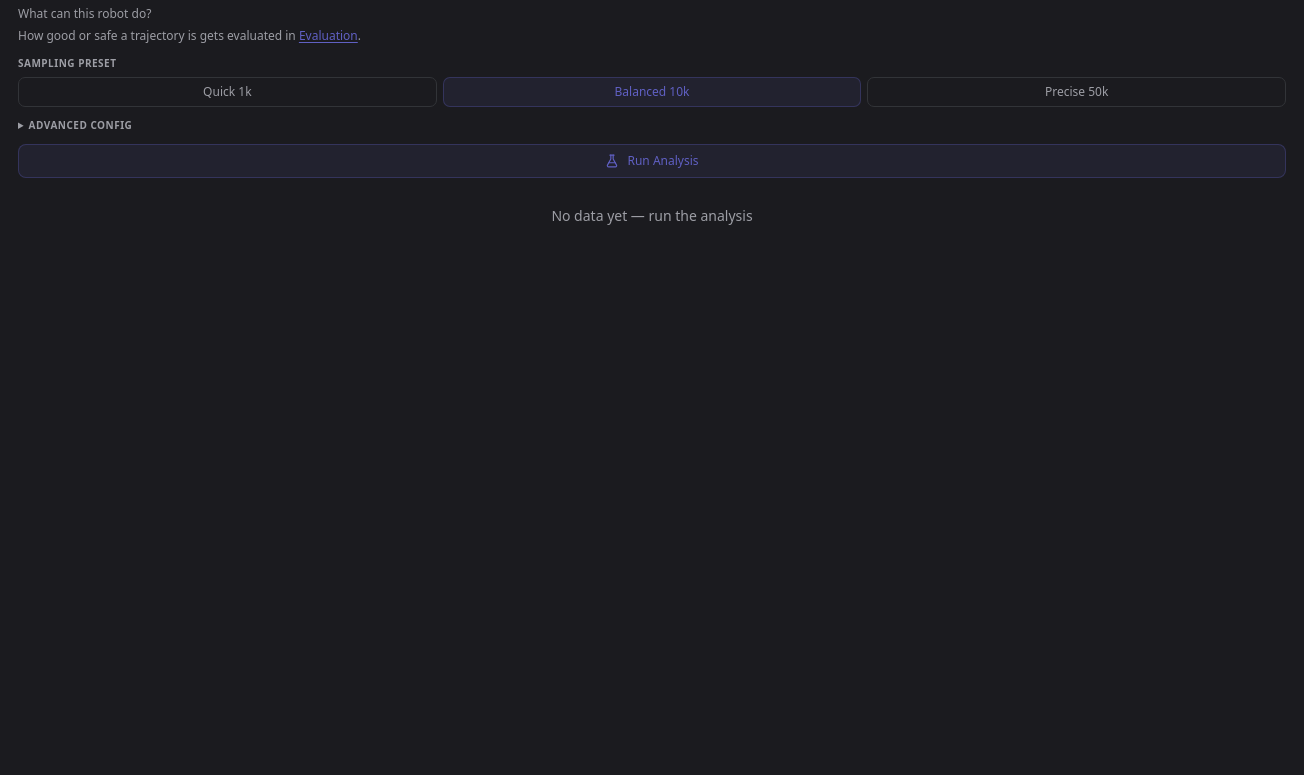
Scenario: WorkspaceAnalysis — explicit trigger runs 3 mutations (spec: Explicit trigger runs sampling) › renders the TABBED inline report — one metric panel per feature
The width and height of the screenshot is (1304, 775).
Click the button "Run Analysis". click: (652, 161)
box: [18,144,1286,178]
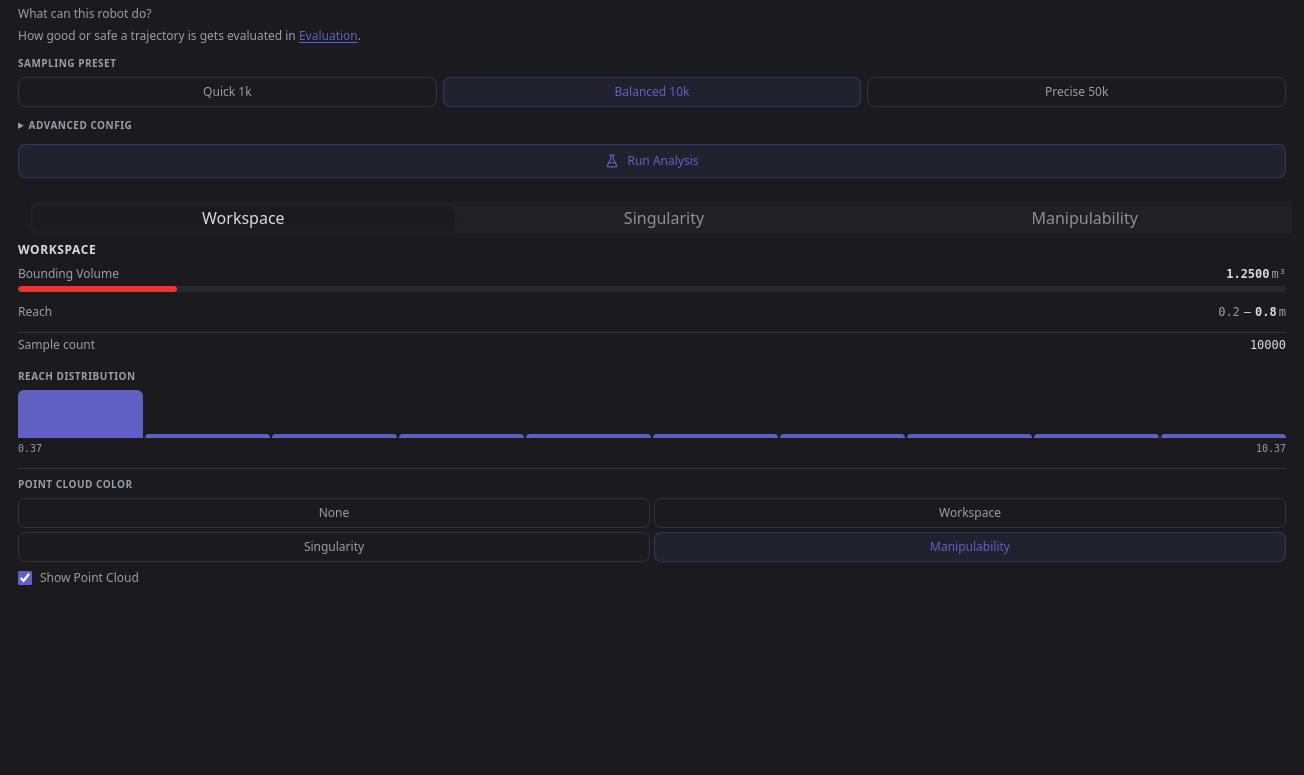
Result: the heading "Workspace" is shown at [18,242,96,258]
Result: the tab "Singularity" is shown
Result: the tab "Manipulability" is shown at [874,206,1292,231]
Click the tab "Singularity". click: (664, 218)
box: [454,206,874,231]
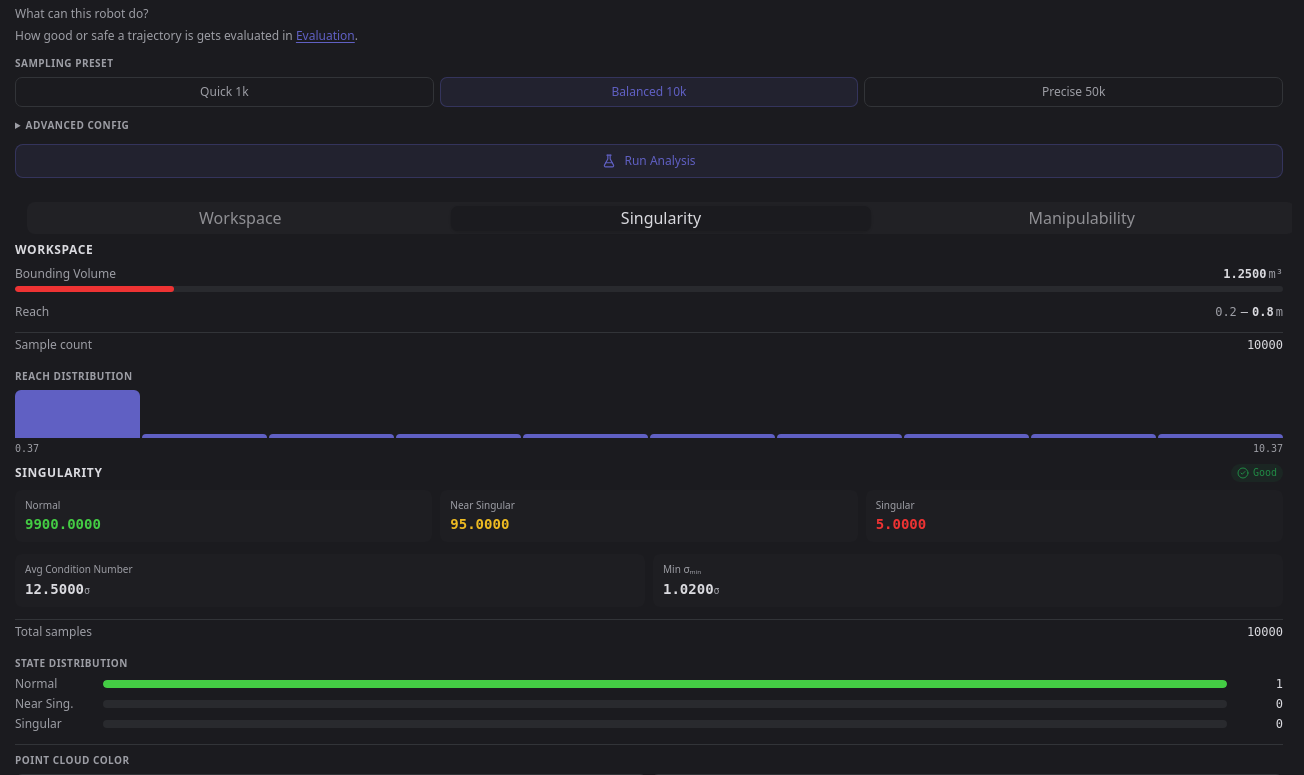
Result: the heading "Singularity" is shown at [15,465,102,481]
Result: the text "Avg Condition Number" is shown at [25,562,133,576]
Click the tab "Manipulability". click: (1082, 218)
box: [871,206,1292,231]
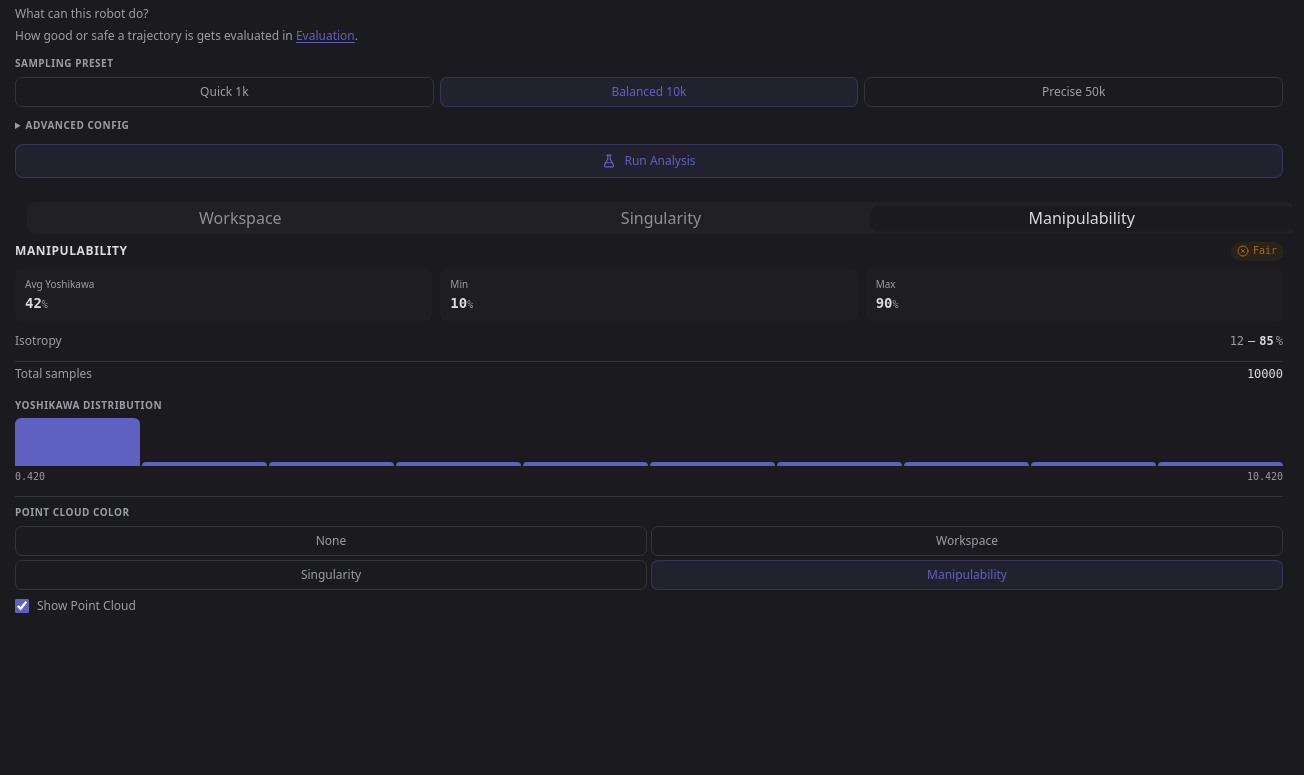
Result: the heading "Manipulability" is shown at [15,244,128,260]
Result: the text "Isotropy" is shown at [15,333,62,349]
